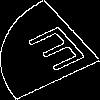E: (25, 25, 97, 81)
